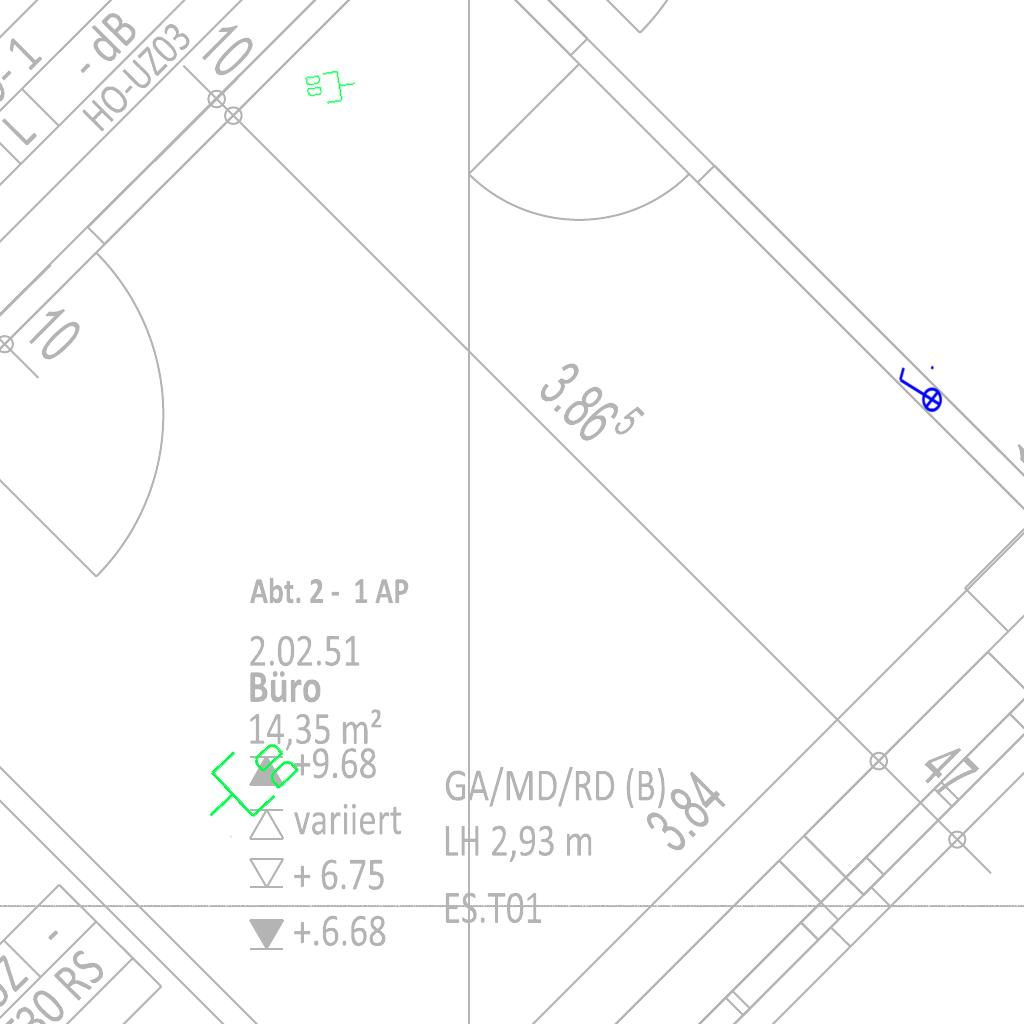Ausschalter_beleuchtet: (895, 363, 943, 419)
Datenanschluss_zweifach: (185, 722, 308, 843), (302, 66, 359, 108)
